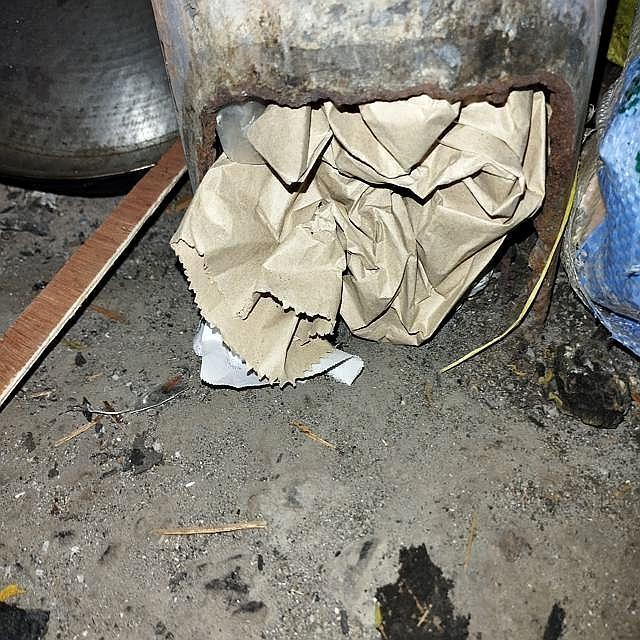Biodegradable: (181, 99, 549, 378)
